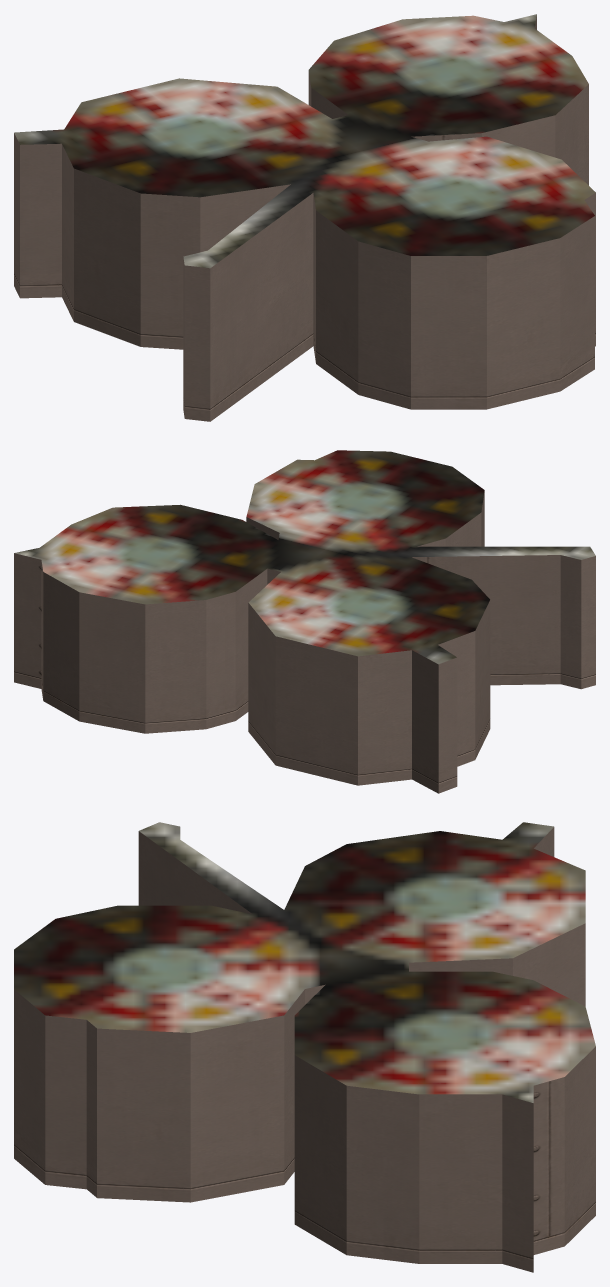
The model's file is fuel_tank_hard_50.glb.
The picture shows the model from 3 angles, top to bottom: view 1: azimuth 30°, elevation 25°; view 2: azimuth 150°, elevation 25°; view 3: azimuth 270°, elevation 25°; orthographic projection. The views are drawn at different scales.
Parts seen in each view (by area): view 1: buildings/saxarba/fuel_tanks/fuel_tank_hard_50; view 2: buildings/saxarba/fuel_tanks/fuel_tank_hard_50; view 3: buildings/saxarba/fuel_tanks/fuel_tank_hard_50.
Part boxes in pixels (x1,y1,x2,y2): buildings/saxarba/fuel_tanks/fuel_tank_hard_50: (14, 14, 595, 421); buildings/saxarba/fuel_tanks/fuel_tank_hard_50: (14, 450, 595, 793); buildings/saxarba/fuel_tanks/fuel_tank_hard_50: (14, 822, 595, 1272).
Bounding box in the file's own units: 64 × 18 × 56.
